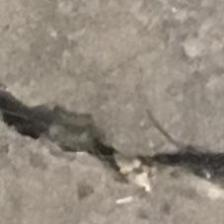Crack: (0, 85, 224, 224)
